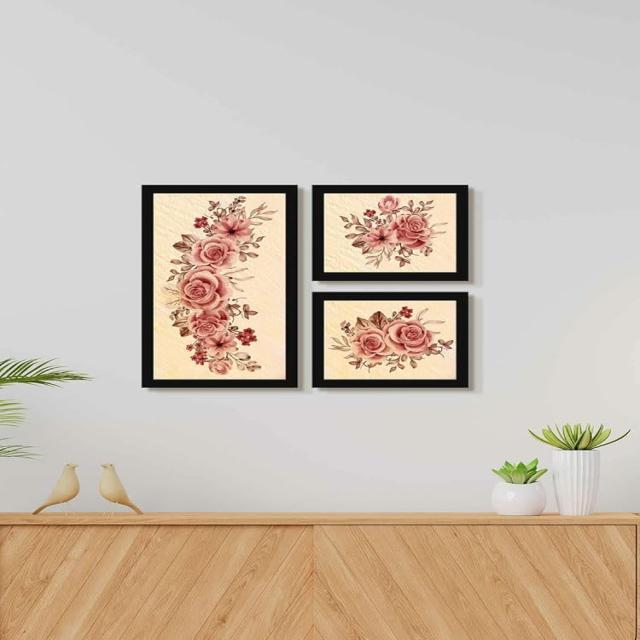painting: (140, 183, 296, 388), (310, 182, 466, 279), (313, 292, 468, 388)
